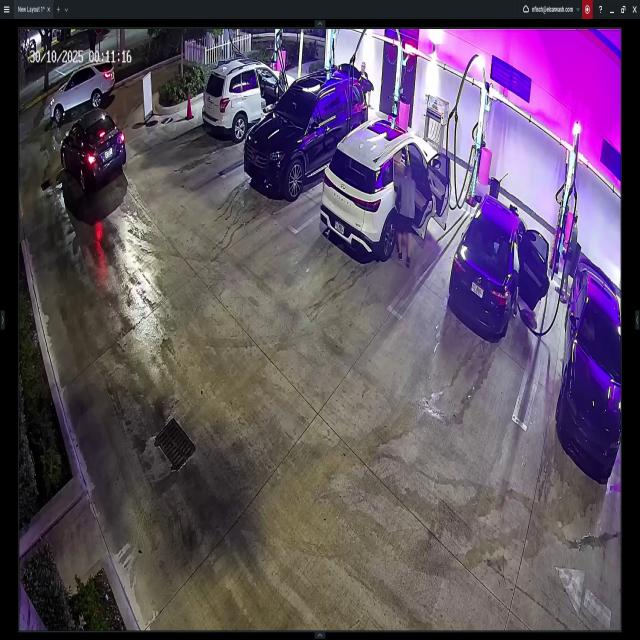Car: (321, 126, 448, 259), (244, 68, 372, 190), (556, 259, 621, 477), (452, 200, 548, 344), (202, 57, 296, 144), (54, 122, 126, 184), (47, 57, 113, 115)
